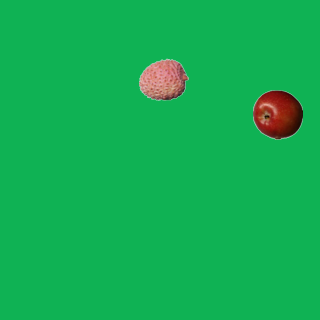Apple Braeburn: (252, 89, 302, 139)
Lychee: (138, 54, 188, 104)
